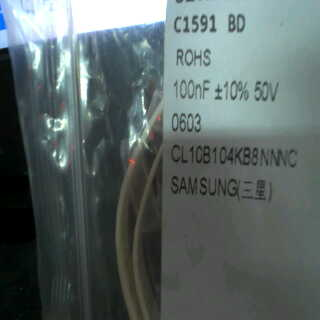100nF: (167, 75, 213, 104)
